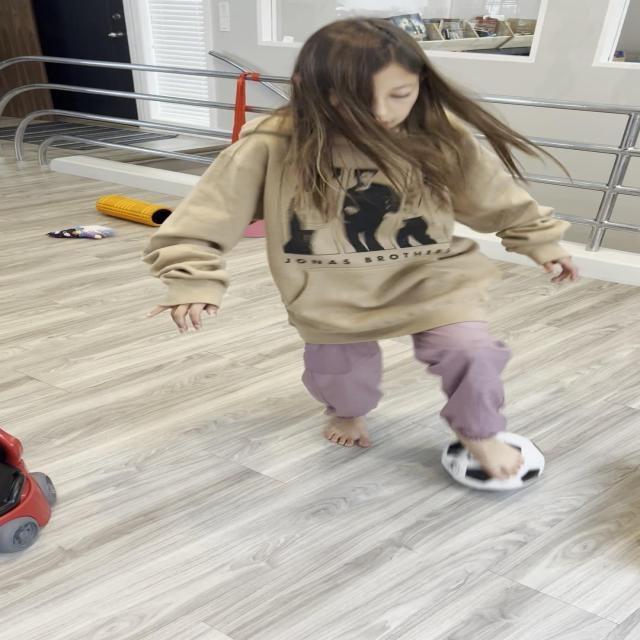Soccer Ball: (442, 430, 545, 490)
